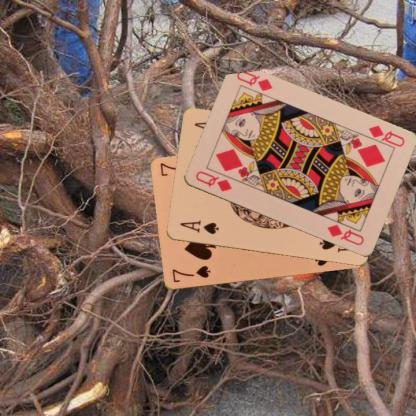7s: (169, 264, 212, 284)
As: (177, 218, 220, 236)
Qd: (360, 123, 406, 150), (192, 168, 233, 194)
